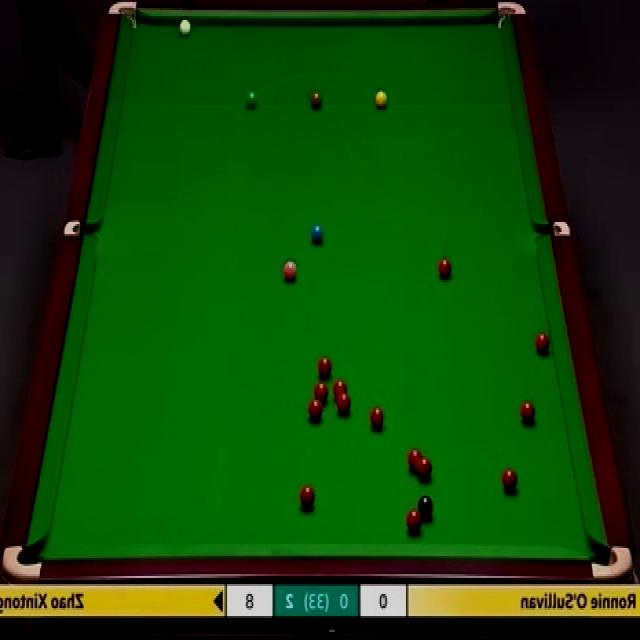black-ball: (416, 494, 434, 518)
blue-ball: (310, 222, 324, 247)
brown-ball: (310, 90, 323, 109)
green-ball: (246, 90, 259, 109)
pink-ball: (282, 262, 298, 284)
red-ball: (298, 481, 316, 512), (533, 331, 552, 358), (369, 404, 387, 432), (502, 467, 522, 492), (521, 398, 538, 423), (315, 356, 334, 378), (332, 376, 348, 402), (406, 509, 421, 535), (310, 384, 326, 408), (416, 456, 432, 480), (405, 449, 421, 471), (336, 393, 352, 415), (309, 398, 322, 419), (438, 260, 452, 278)
white-ball: (178, 18, 192, 39)
yellow-ball: (375, 90, 388, 109)
